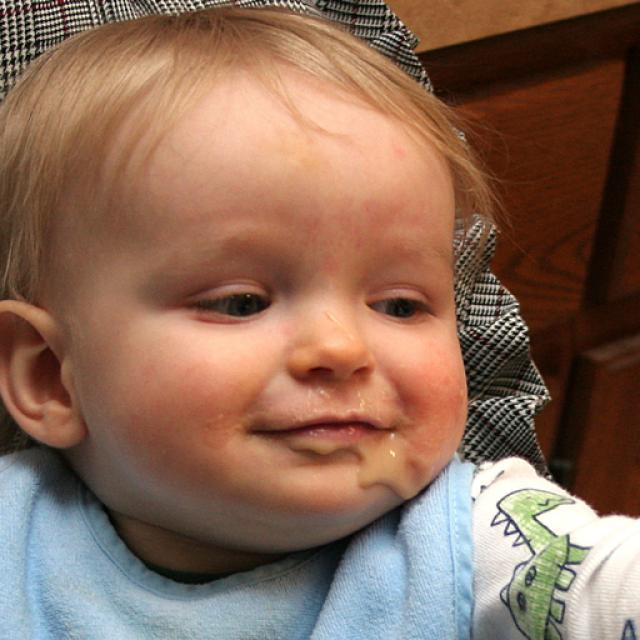happy: (75, 84, 476, 548)
